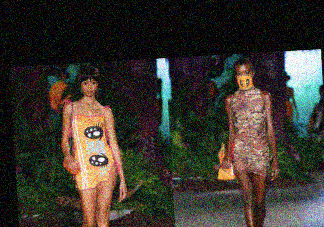with_mask: (235, 69, 254, 88)
without_mask: (80, 78, 98, 97)
